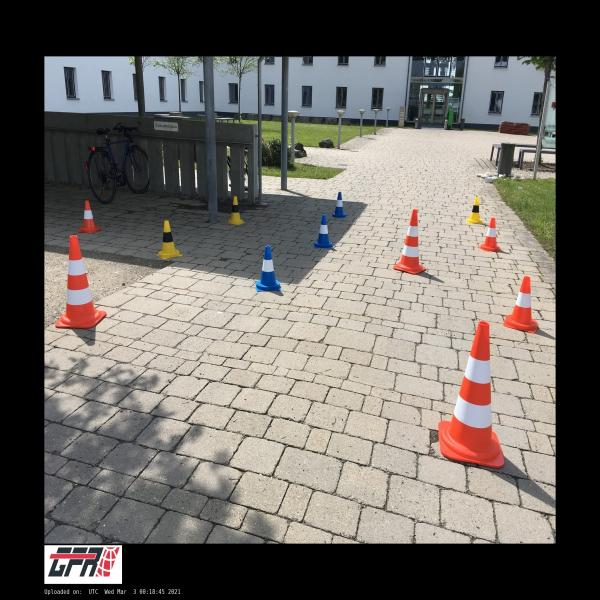blue_cone: (256, 246, 281, 291), (314, 214, 332, 248), (330, 192, 347, 218)
large_orange_cone: (438, 321, 505, 468), (55, 235, 106, 329), (393, 209, 426, 274)
orange_cone: (503, 276, 538, 333), (477, 218, 502, 251), (77, 200, 101, 233)
yellow_cone: (156, 220, 182, 259), (226, 196, 245, 225), (467, 197, 482, 224)
